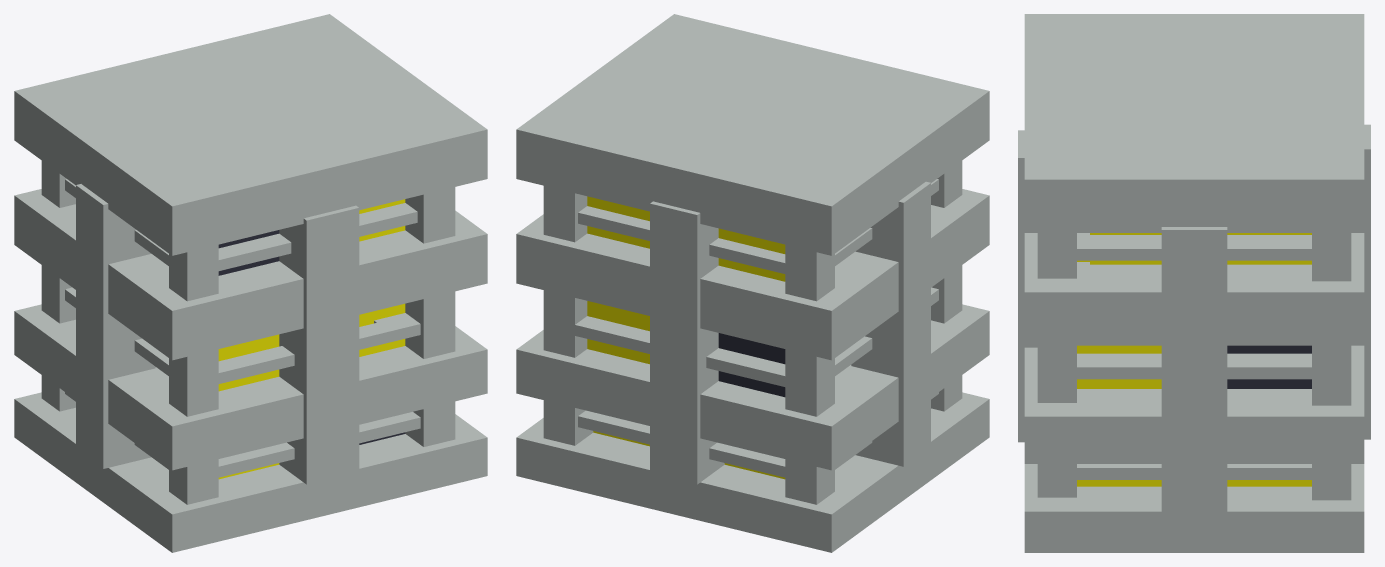
File: Building002(3).obj
3 renders of one model, left to right at view 1: azimuth 30°, elevation 25°; view 2: azimuth 150°, elevation 25°; view 3: azimuth 270°, elevation 25°, orthographic. The views are drawn at different scales.
Size of the model in its own units: 6.2 by 6.3 by 5.4.
Materials: 1 (1 with a texture image).
